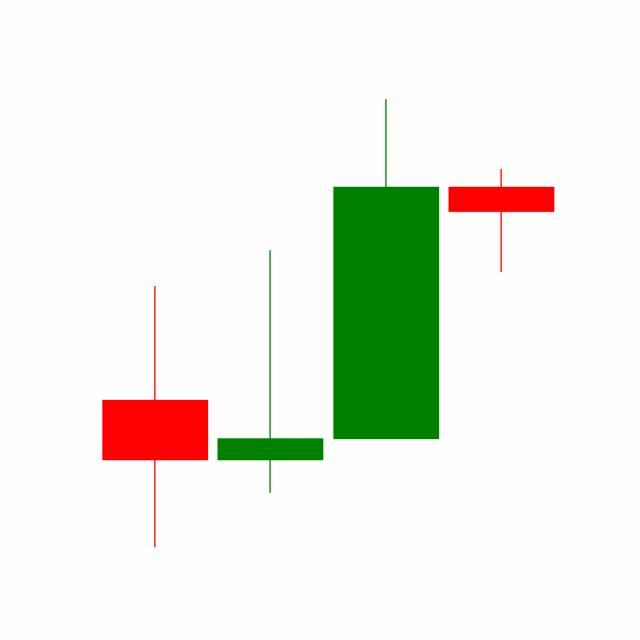Dragonfly Doji: (444, 168, 560, 275)
